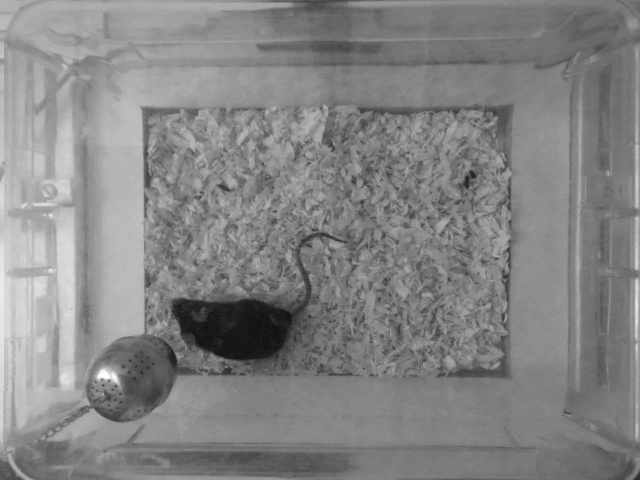mice: (167, 230, 346, 362)
